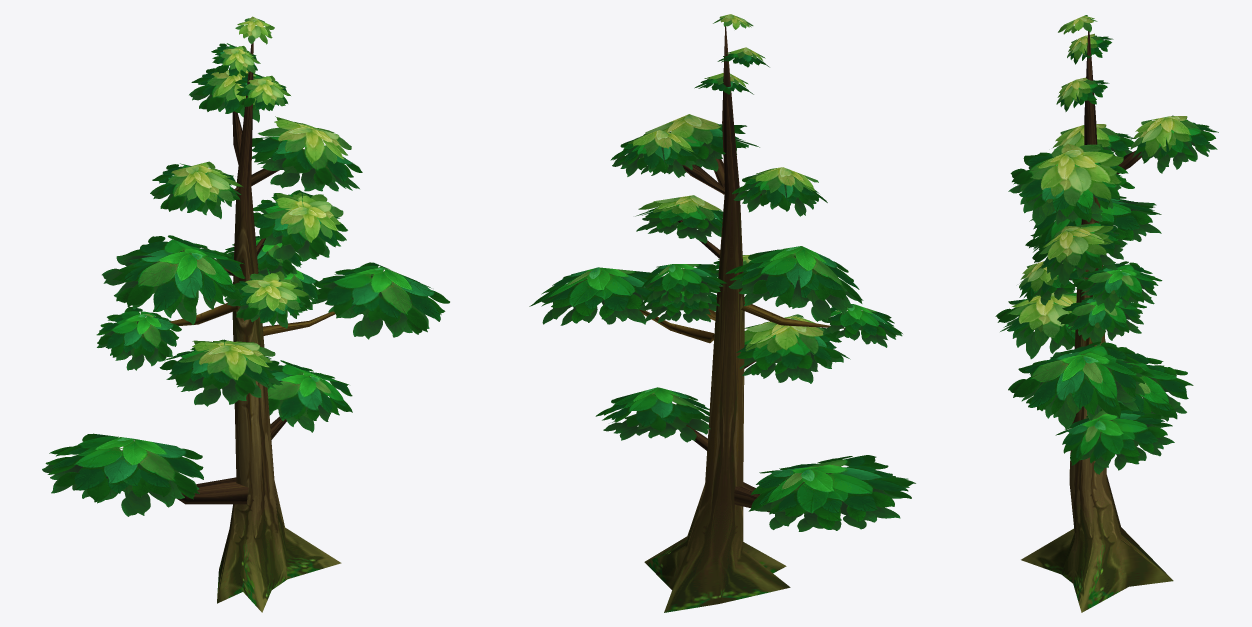
The model's file is loyalismwood_tree01.FBX.
3 views of the same model, side by side, from view 1: azimuth 30°, elevation 25°; view 2: azimuth 150°, elevation 25°; view 3: azimuth 270°, elevation 25° (orthographic). The views are drawn at different scales.
Visible parts, largest first — view 1: loyalismwood_tree01; view 2: loyalismwood_tree01; view 3: loyalismwood_tree01.
Boxes of the visible parts, x1,y1,x2,y2 form: loyalismwood_tree01: (42,16,449,612); loyalismwood_tree01: (529,14,915,612); loyalismwood_tree01: (995,15,1218,612).
Size of the model in its own units: 1025 by 547 by 1283.
